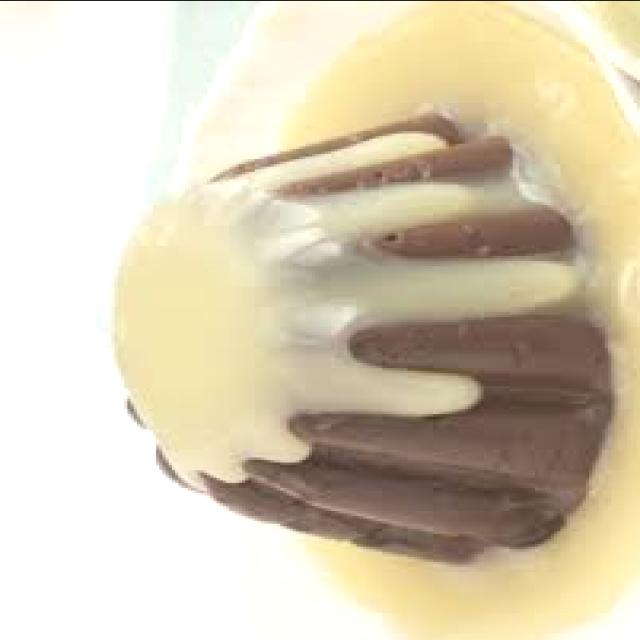puding: (115, 107, 627, 566)
